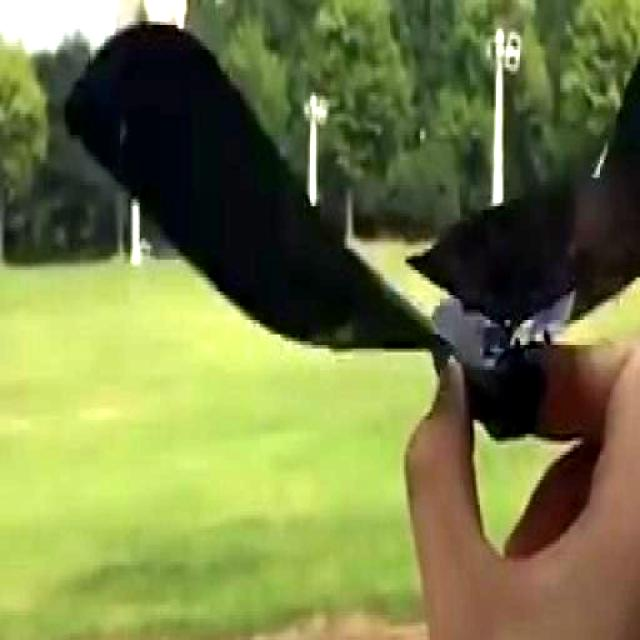bird: (41, 0, 640, 438)
